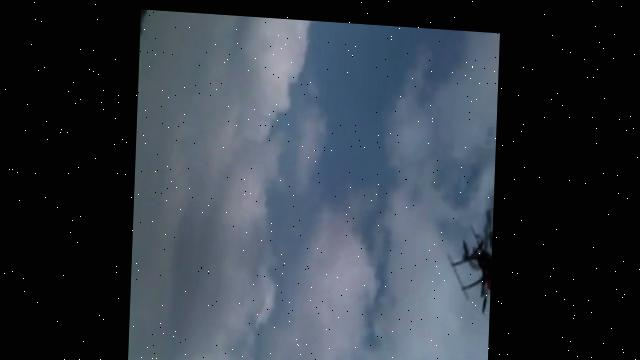drone: (448, 199, 495, 309)
